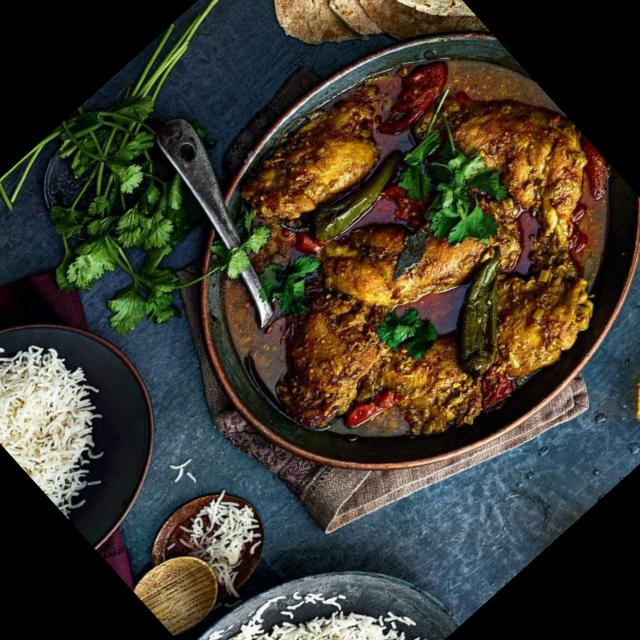chicken: (232, 54, 639, 439)
rice: (192, 514, 445, 640), (0, 313, 141, 511)
roti: (254, 0, 436, 83)
